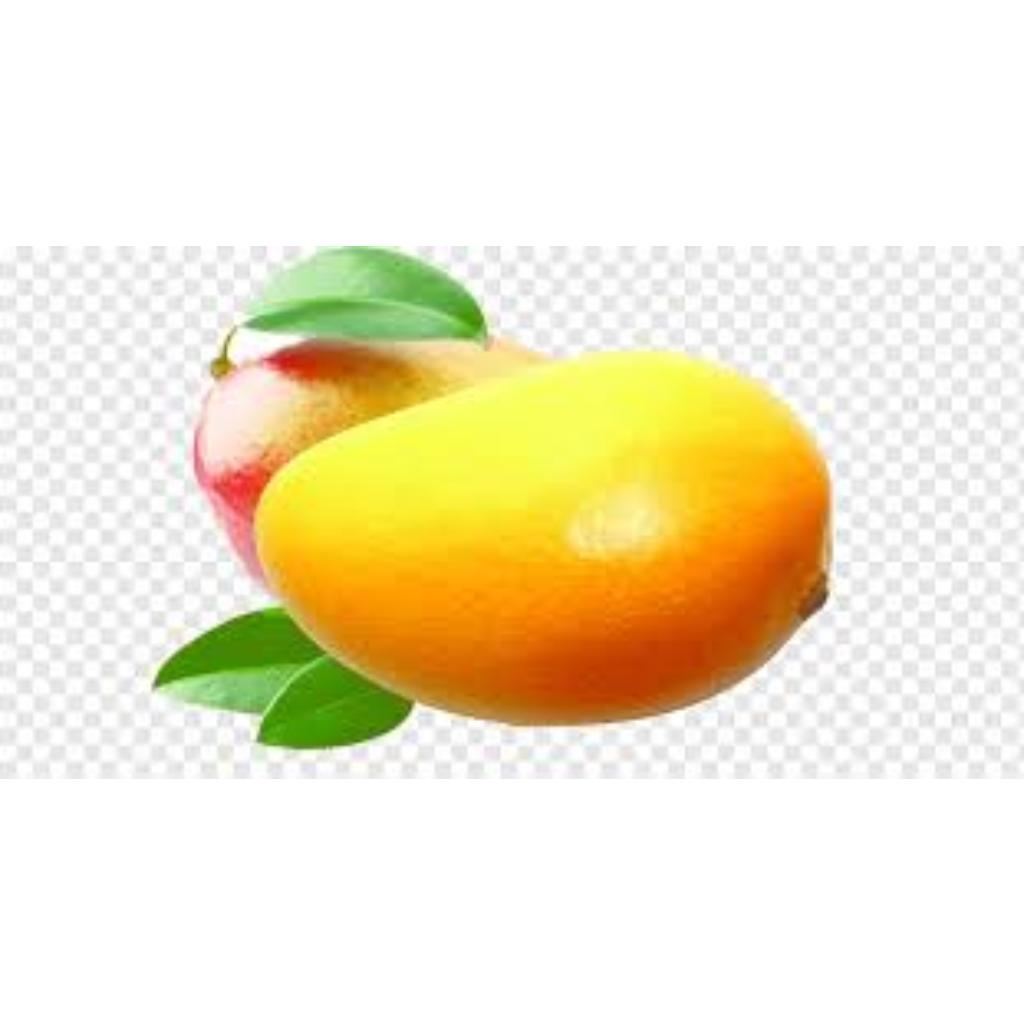mango: (254, 350, 830, 713), (193, 335, 566, 590)
